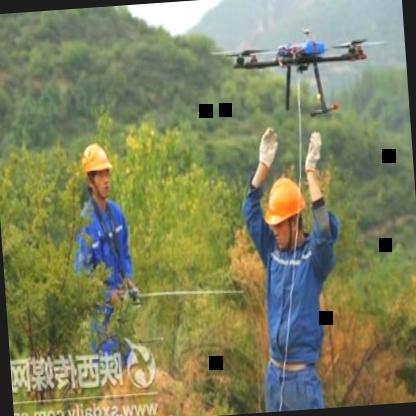helmet: (262, 174, 308, 252), (77, 138, 117, 206)
